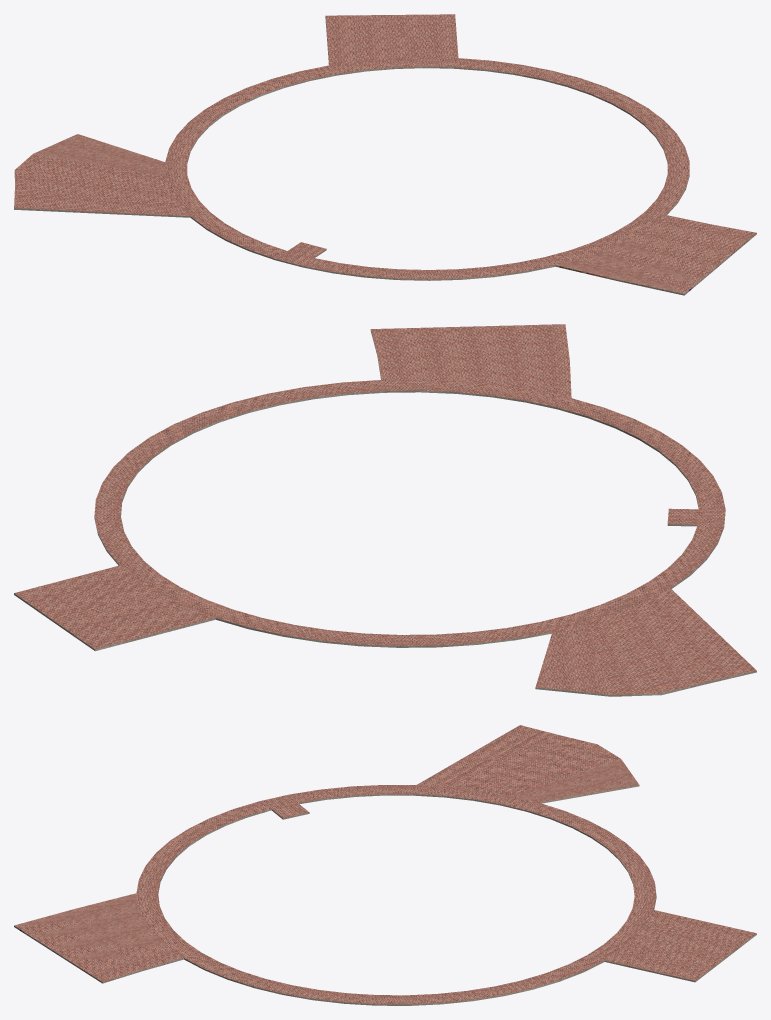
Rendered from Path.fbx.
The picture shows the model from 3 angles, top to bottom: view 1: azimuth 30°, elevation 25°; view 2: azimuth 150°, elevation 25°; view 3: azimuth 270°, elevation 25°; orthographic projection. The views are drawn at different scales.
Visible parts, largest first — view 1: Path; view 2: Path; view 3: Path.
Boxes of the visible parts, left/top/right/bottom form: Path: left=14, top=14, right=756, bottom=295; Path: left=14, top=324, right=756, bottom=696; Path: left=14, top=725, right=756, bottom=1005.
Size of the model in its own units: 109 by 0.2678 by 122.
